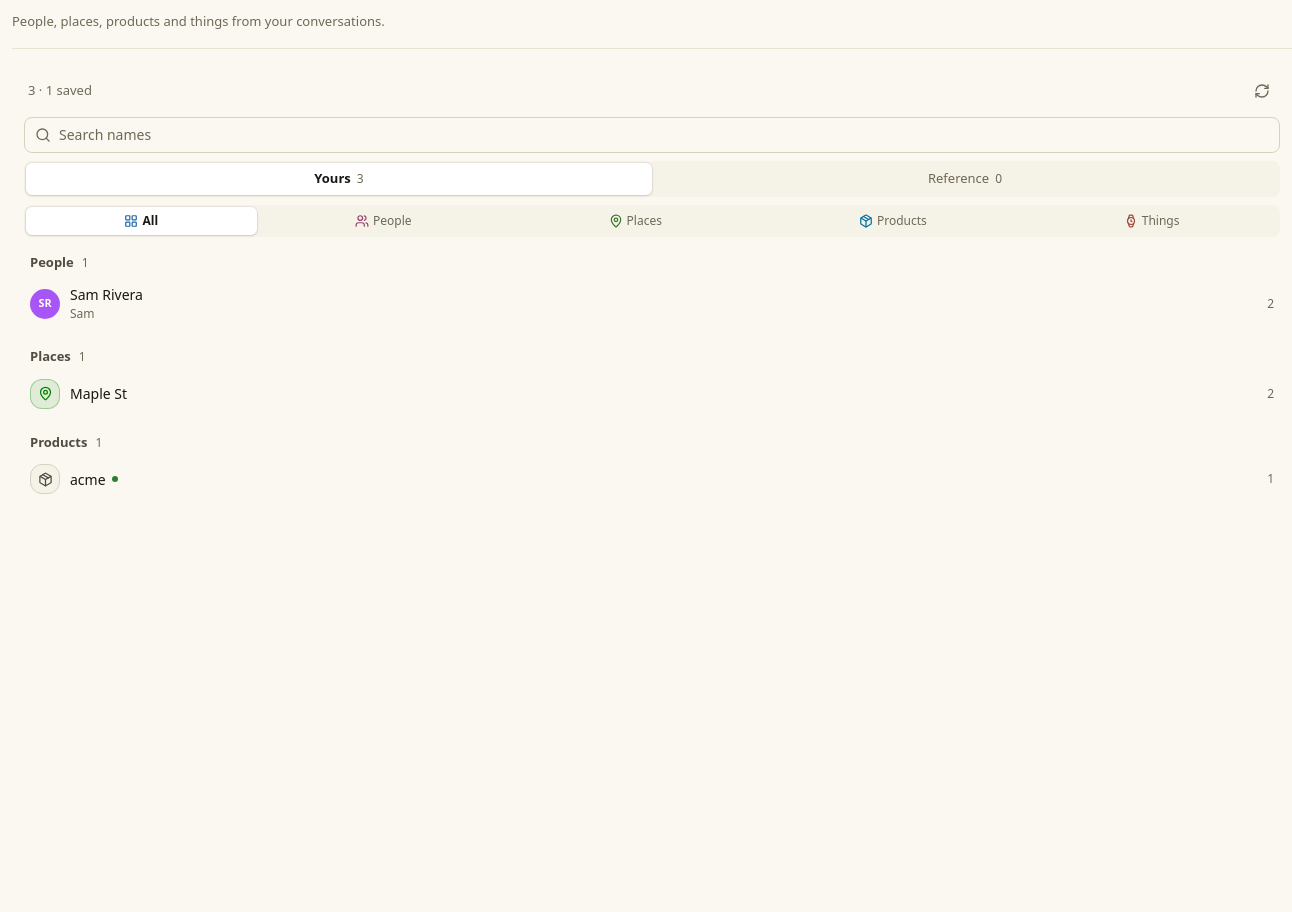
Scenario: Entities view › on a phone: the list, then the detail with a way back
Click the button with test id "entity-row" showing "SR Sam Rivera Sam 2" at (106, 294), box [20,276,1284,331]
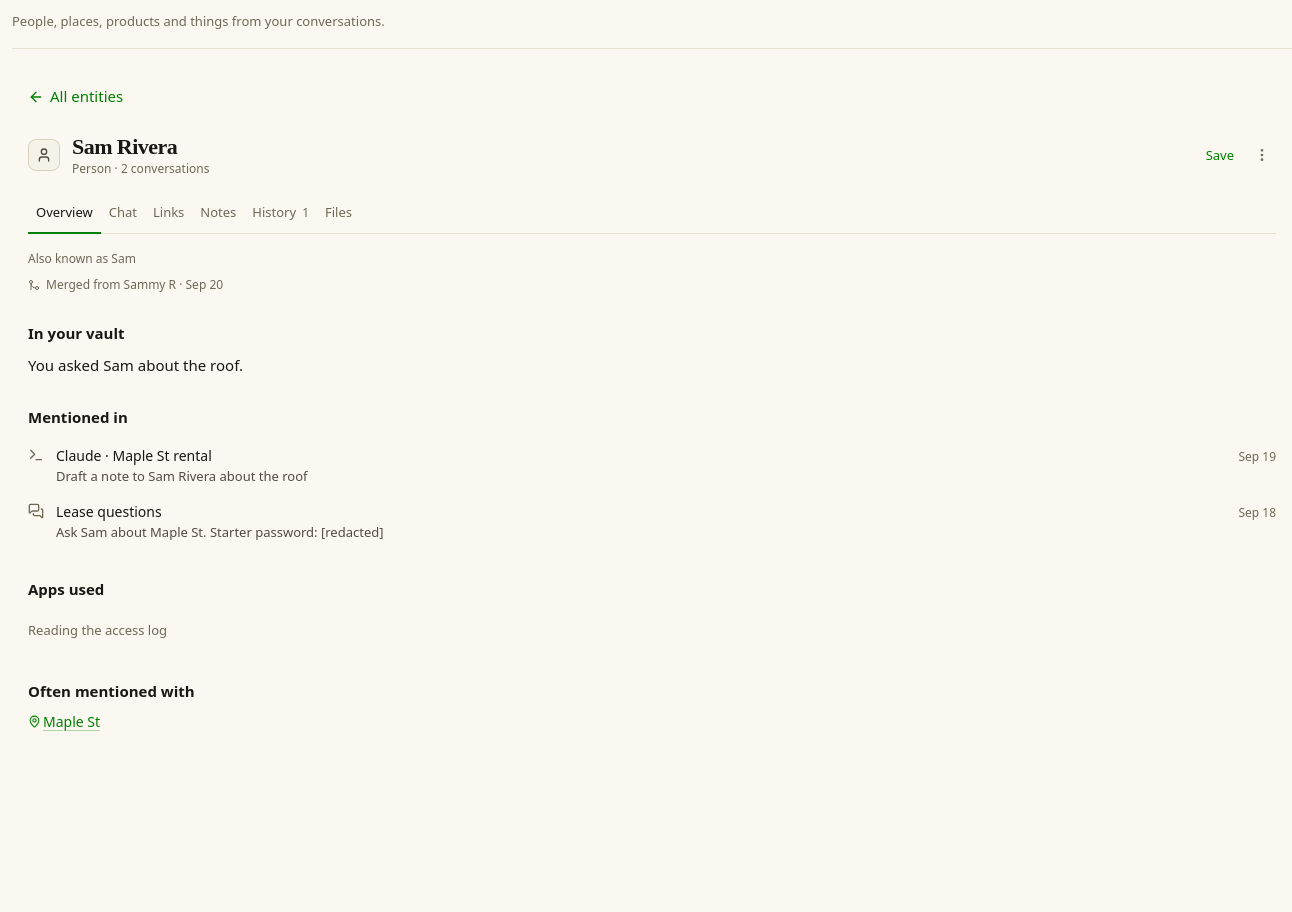
Result: the element with test id "entity-detail" is shown
Click the button "All entities" at (76, 96), box [28,76,123,116]
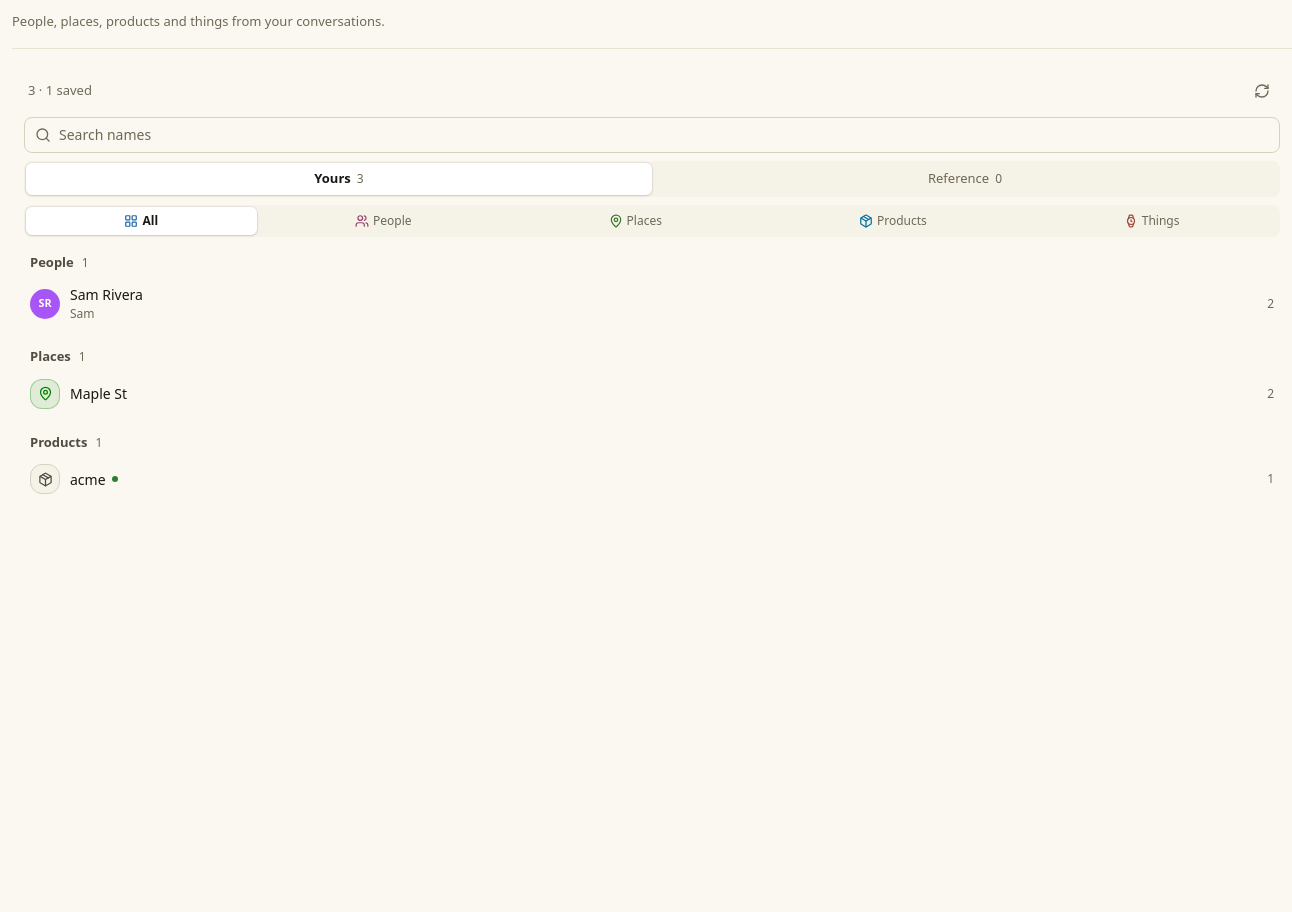
Result: the number of buttons with test id "entity-row" is 3 at [20,276,1284,331]; [20,370,1284,416]; [20,456,1284,502]
